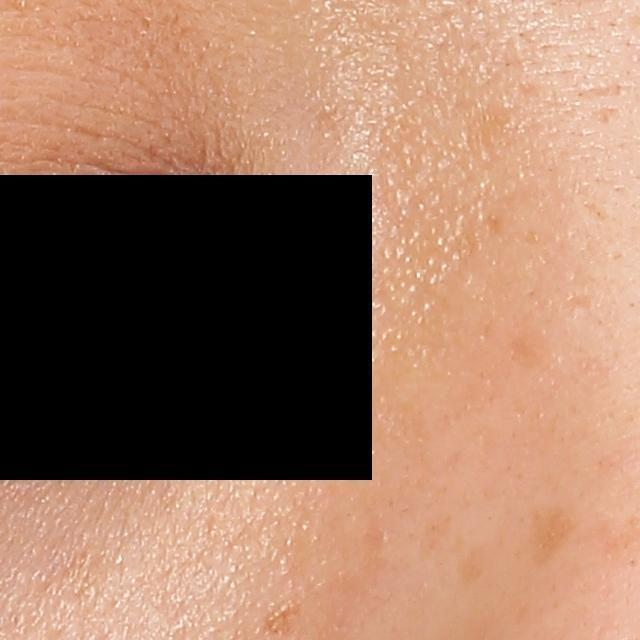melasma: (531, 502, 584, 569), (458, 537, 502, 587), (255, 598, 305, 640)
